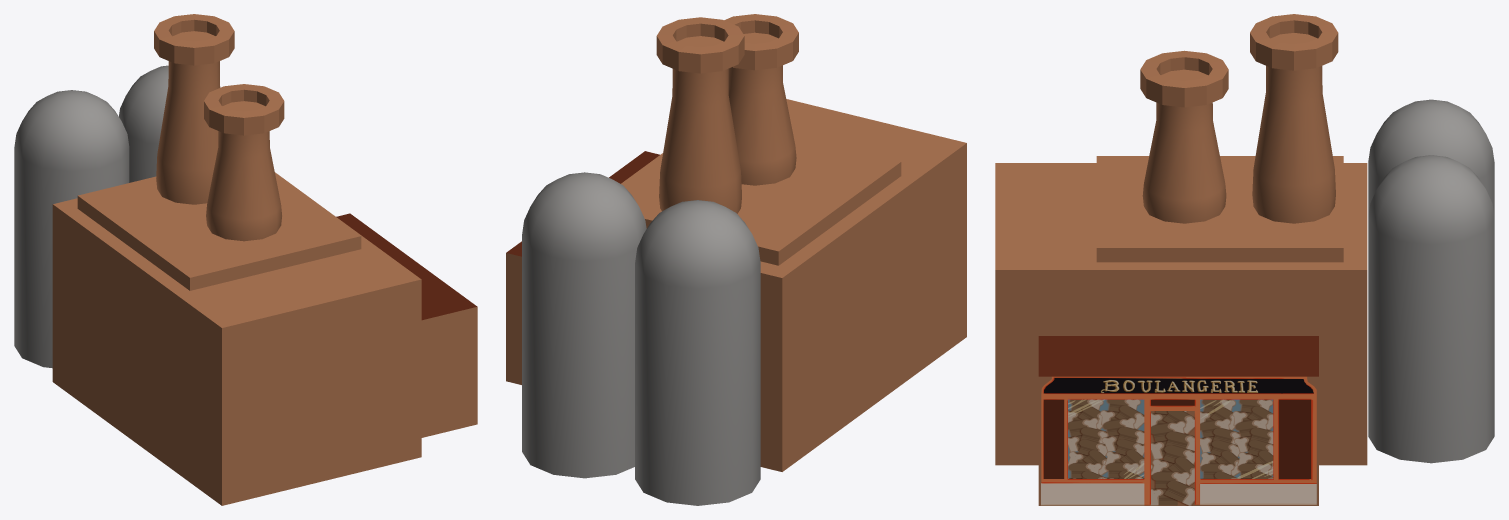
Rendered from WinBread.FBX.
3 renders of one model, left to right at view 1: azimuth 30°, elevation 25°; view 2: azimuth 150°, elevation 25°; view 3: azimuth 270°, elevation 25°, orthographic. The views are drawn at different scales.
Visible parts, largest first — view 1: BreadFactory; view 2: BreadFactory; view 3: BreadFactory.
Part boxes in pixels (x1,y1,x2,y2): BreadFactory: [14, 14, 477, 505]; BreadFactory: [506, 14, 966, 505]; BreadFactory: [995, 14, 1494, 505].
Size of the model in its own units: 233 by 281 by 331.
Materials: 1 (1 with a texture image).
